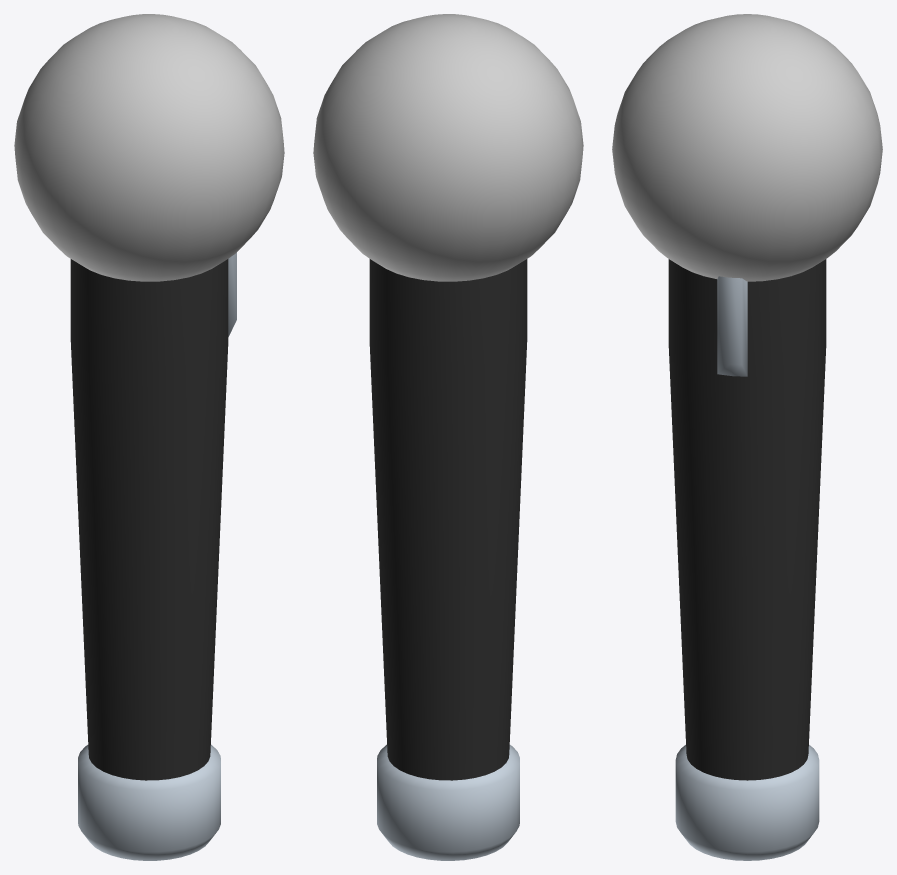
Rendered from Mic.fbx.
3 renders of one model, left to right at view 1: azimuth 30°, elevation 25°; view 2: azimuth 150°, elevation 25°; view 3: azimuth 270°, elevation 25°, orthographic.
Parts seen in each view (by area): view 1: Mic; view 2: Mic; view 3: Mic.
Part boxes in pixels (left/top/right/bottom): Mic: left=14, top=14, right=284, bottom=860; Mic: left=313, top=14, right=583, bottom=860; Mic: left=612, top=14, right=882, bottom=860.
Bounding box in the file's own units: 75.22 × 248 × 75.22.
